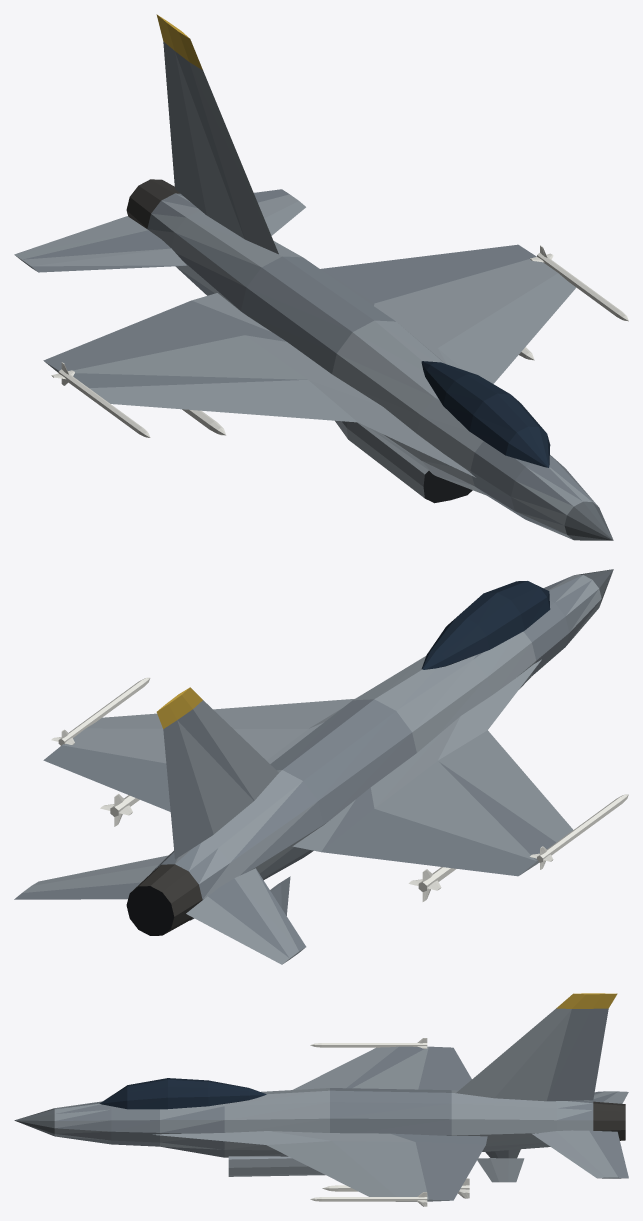
The picture shows the model from 3 angles, top to bottom: view 1: azimuth 30°, elevation 25°; view 2: azimuth 150°, elevation 25°; view 3: azimuth 270°, elevation 25°; orthographic projection. The views are drawn at different scales.
Visible parts, largest first — view 1: lf27; view 2: lf27; view 3: lf27.
Part boxes in pixels (bbox=[...]): lf27: bbox=[14, 14, 628, 540]; lf27: bbox=[14, 569, 628, 964]; lf27: bbox=[14, 993, 628, 1206].
Size of the model in its own units: 9.39 by 4.86 by 15.18.
